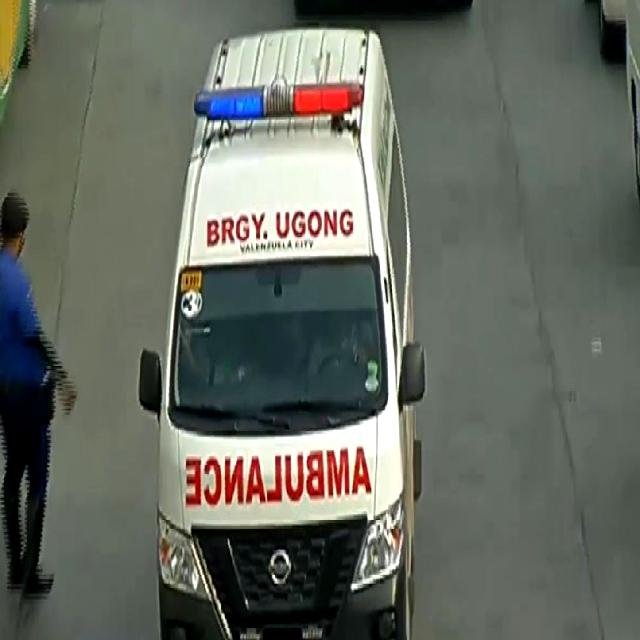emergency: (137, 26, 426, 640)
